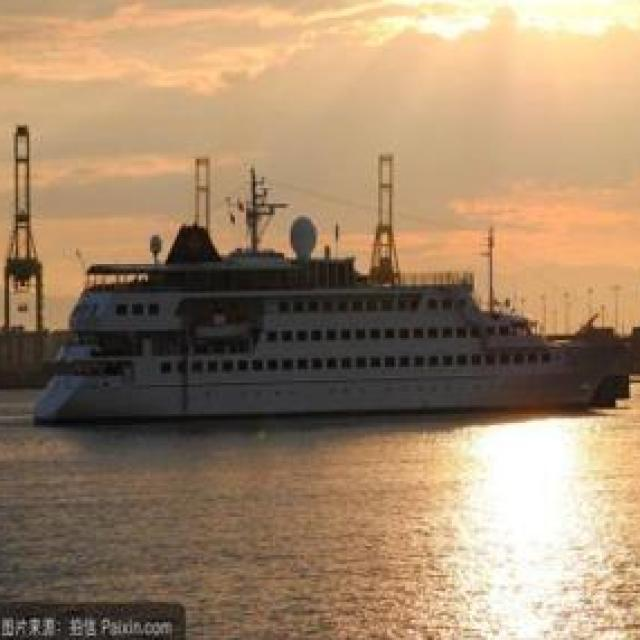passenger ship: (30, 235, 621, 422)
